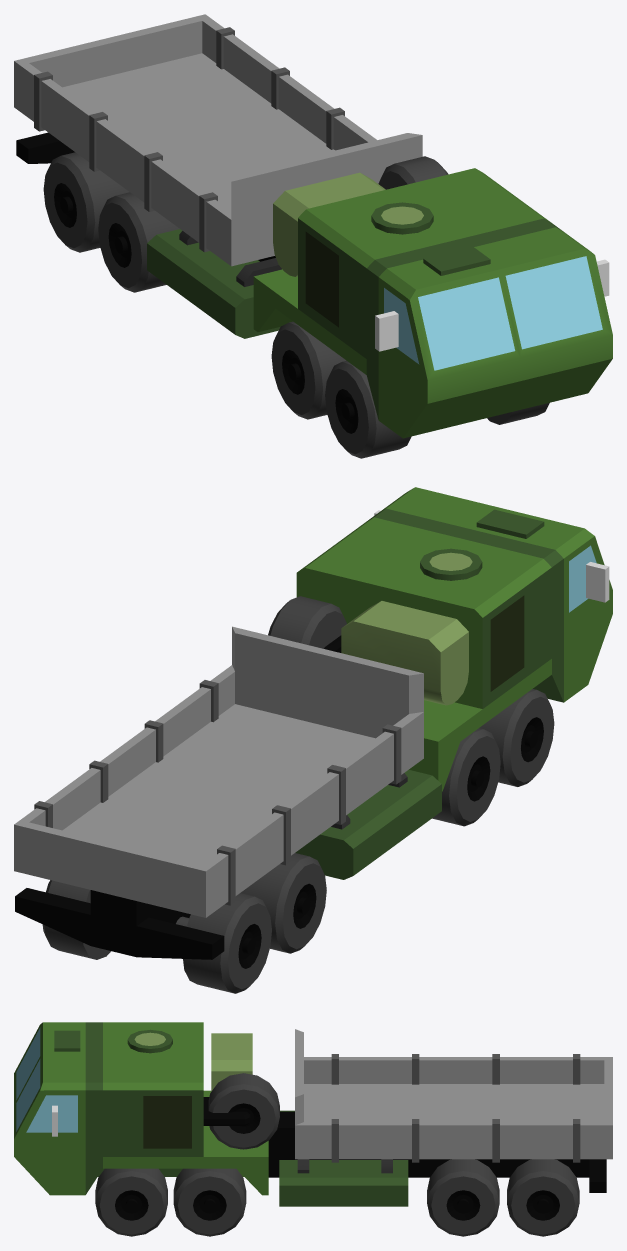
Rendered from Big Truck 3.fbx.
3 views of the same model, one above another, from view 1: azimuth 30°, elevation 25°; view 2: azimuth 150°, elevation 25°; view 3: azimuth 270°, elevation 25° (orthographic). The views are drawn at different scales.
Parts seen in each view (by area): view 1: Cube.505, Cube.513, Cylinder.586, Cube.511, Cylinder.584, Cylinder.585, Cube.508, Cube.514, Cylinder.583, Cylinder.587, Cube.512, Cube.506 (+2 smaller); view 2: Cube.513, Cube.505, Cylinder.586, Cube.512, Cube.508, Cube.511, Cylinder.584, Cylinder.585, Cube.514, Cylinder.587, Cylinder.583, Cube.507 (+1 smaller); view 3: Cube.513, Cube.505, Cylinder.586, Cube.511, Cylinder.585, Cylinder.584, Cylinder.587, Cube.512, Cube.514, Cube.508, Cylinder.583, Cube.510 (+2 smaller).
Part boxes in pixels (x1,y1,x2,y2): Cube.505: (253, 168, 612, 438); Cube.513: (14, 14, 422, 266); Cylinder.586: (43, 152, 179, 292); Cube.511: (147, 229, 280, 338); Cylinder.584: (325, 360, 549, 458); Cylinder.585: (271, 321, 345, 419); Cube.508: (273, 172, 385, 276); Cube.514: (34, 27, 344, 252); Cylinder.583: (371, 202, 433, 234); Cylinder.587: (378, 156, 448, 189); Cube.512: (16, 132, 275, 261); Cube.506: (375, 259, 609, 351); Cube.513: (14, 626, 423, 917); Cube.505: (296, 487, 612, 791); Cylinder.586: (42, 853, 326, 993); Cube.512: (15, 888, 224, 959); Cube.508: (341, 601, 468, 705); Cube.511: (295, 769, 441, 879); Cylinder.584: (479, 689, 554, 786); Cylinder.585: (432, 728, 500, 826); Cube.514: (34, 680, 401, 905); Cylinder.587: (268, 596, 346, 648); Cylinder.583: (420, 548, 482, 580); Cube.507: (476, 509, 544, 538); Cube.513: (295, 1029, 612, 1159); Cube.505: (14, 1022, 268, 1195); Cylinder.586: (427, 1159, 579, 1236); Cube.511: (279, 1110, 408, 1206); Cylinder.585: (173, 1168, 246, 1236); Cylinder.584: (95, 1168, 167, 1236); Cylinder.587: (208, 1073, 279, 1149); Cube.512: (268, 1111, 606, 1192); Cube.514: (331, 1054, 580, 1162); Cube.508: (211, 1033, 252, 1091); Cylinder.583: (127, 1029, 172, 1053); Cube.510: (203, 1097, 250, 1125).
Bounding box in the file's own units: 939 × 838 × 2895.
